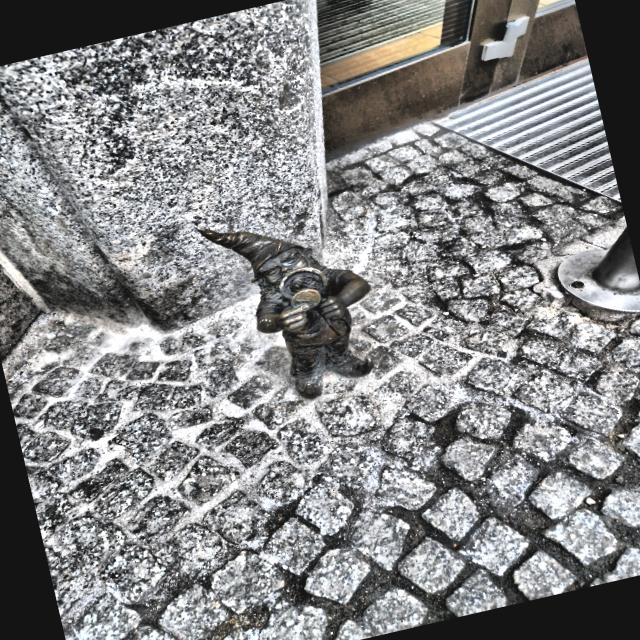Kolekcjoner: (198, 228, 373, 398)
